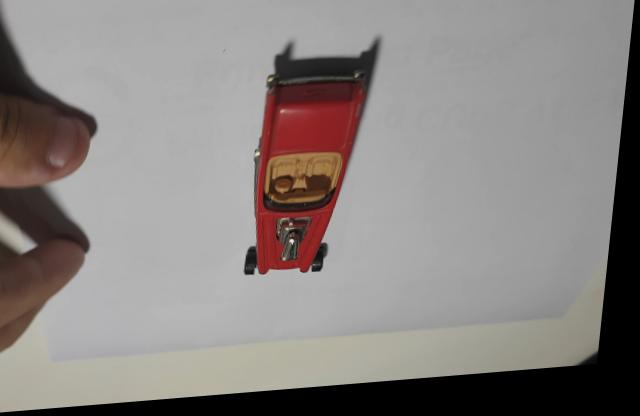03_V8: (250, 60, 375, 279)
